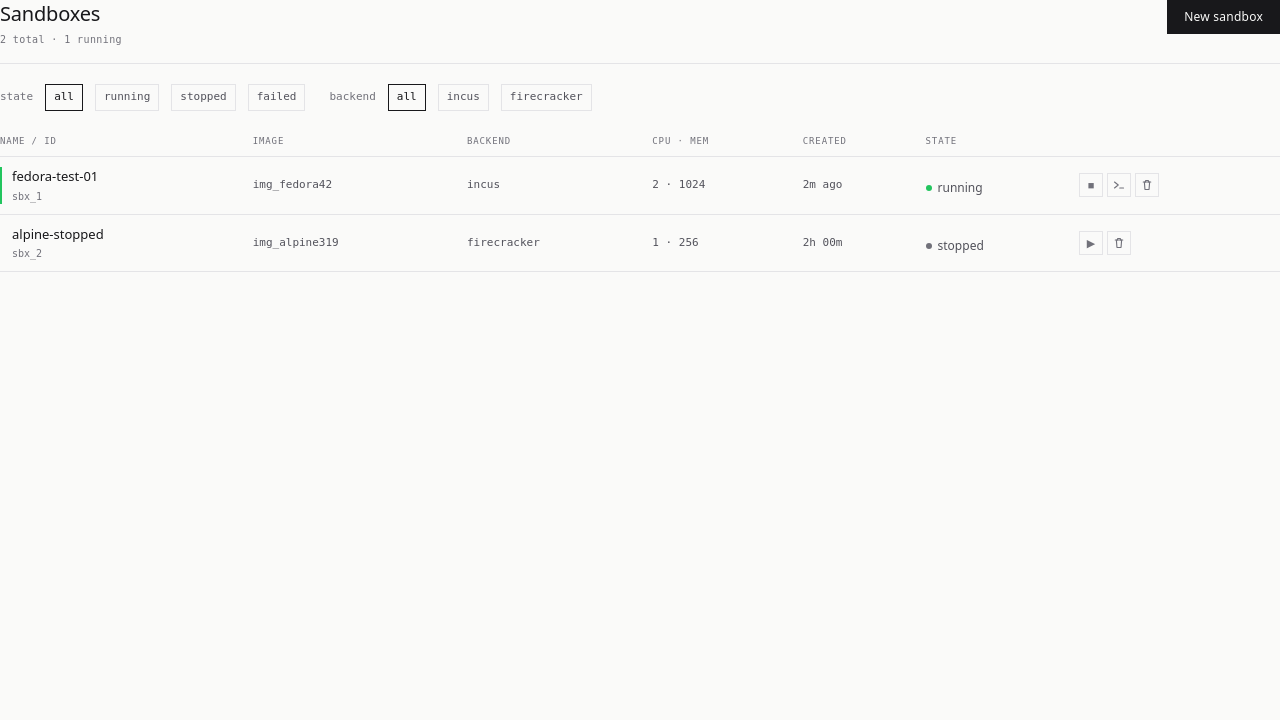
Test: Sandboxes list › opens the dialog when New sandbox is clicked
Expected: the link "fedora-test-01" is shown, [12,167,98,185]
Click the button "New sandbox".
click(1224, 17)  # box [1167,0,1279,34]
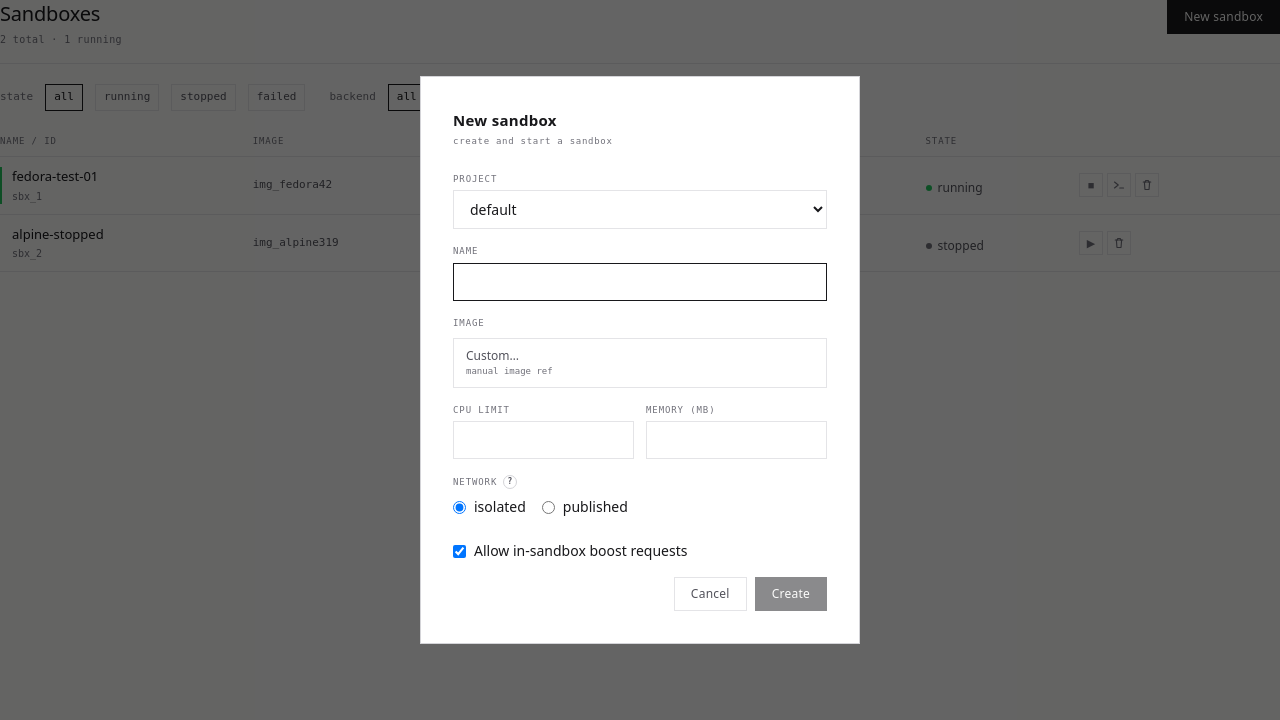
Expected: the dialog is shown, [420,76,860,644]
Expected: the heading "New sandbox" is shown, [453,110,557,130]
